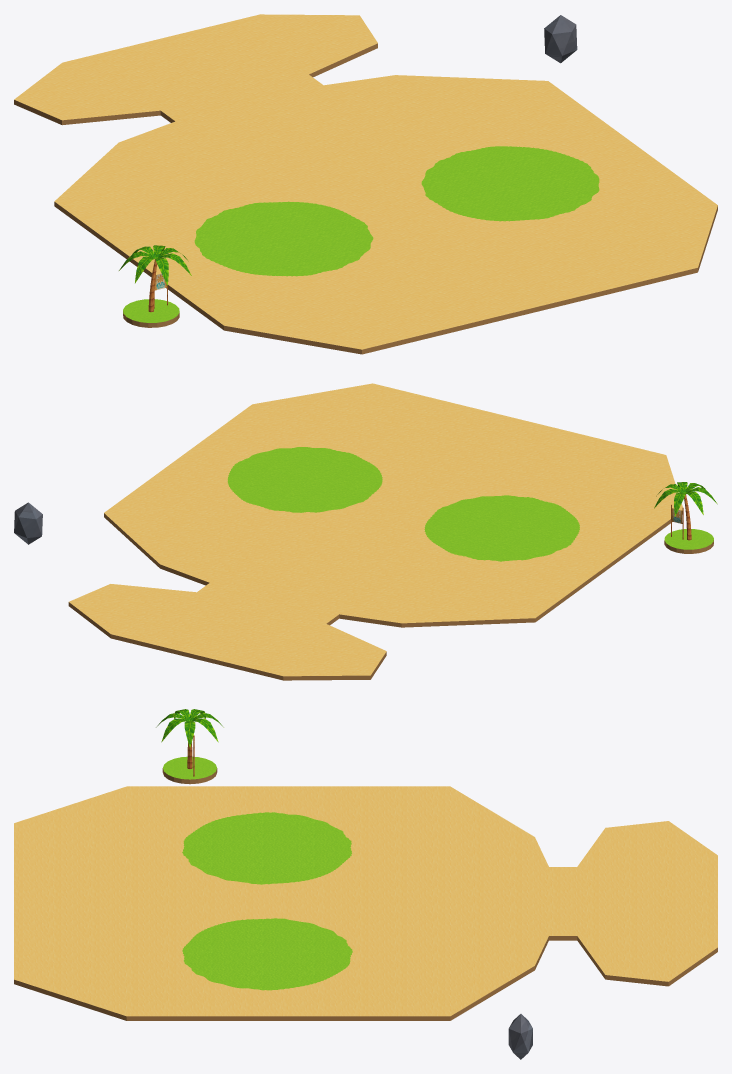
Rendered from surface-21-CzClGdwq.glb.
3 views of the same model, one above another, from view 1: azimuth 30°, elevation 25°; view 2: azimuth 150°, elevation 25°; view 3: azimuth 270°, elevation 25° (orthographic). The views are drawn at different scales.
Parts seen in each view (by area): view 1: HI_Surface_21, FLC_Regions_21, HI_SceneryIslet_0.010, HI_Palm.009, HI_BasaltOutcrop.010; view 2: HI_Surface_21, FLC_Regions_21, HI_SceneryIslet_0.010, HI_Palm.009, HI_BasaltOutcrop.010; view 3: HI_Surface_21, FLC_Regions_21, HI_SceneryIslet_0.010, HI_Palm.009, HI_BasaltOutcrop.010.
Part boxes in pixels (bbox=[...]): HI_Surface_21: bbox=[14, 14, 717, 354]; FLC_Regions_21: bbox=[194, 146, 599, 276]; HI_SceneryIslet_0.010: bbox=[123, 299, 179, 327]; HI_Palm.009: bbox=[119, 245, 191, 312]; HI_BasaltOutcrop.010: bbox=[544, 15, 577, 63]; HI_Surface_21: bbox=[68, 383, 682, 680]; FLC_Regions_21: bbox=[227, 447, 579, 561]; HI_SceneryIslet_0.010: bbox=[664, 529, 713, 553]; HI_Palm.009: bbox=[654, 482, 717, 540]; HI_BasaltOutcrop.010: bbox=[14, 502, 42, 544]; HI_Surface_21: bbox=[14, 786, 717, 1020]; FLC_Regions_21: bbox=[182, 812, 352, 990]; HI_SceneryIslet_0.010: bbox=[162, 756, 217, 784]; HI_Palm.009: bbox=[156, 709, 223, 768]; HI_BasaltOutcrop.010: bbox=[508, 1014, 532, 1059].
Bounding box in the file's own units: 42.89 × 5.15 × 44.
7 materials, 6 textured.
